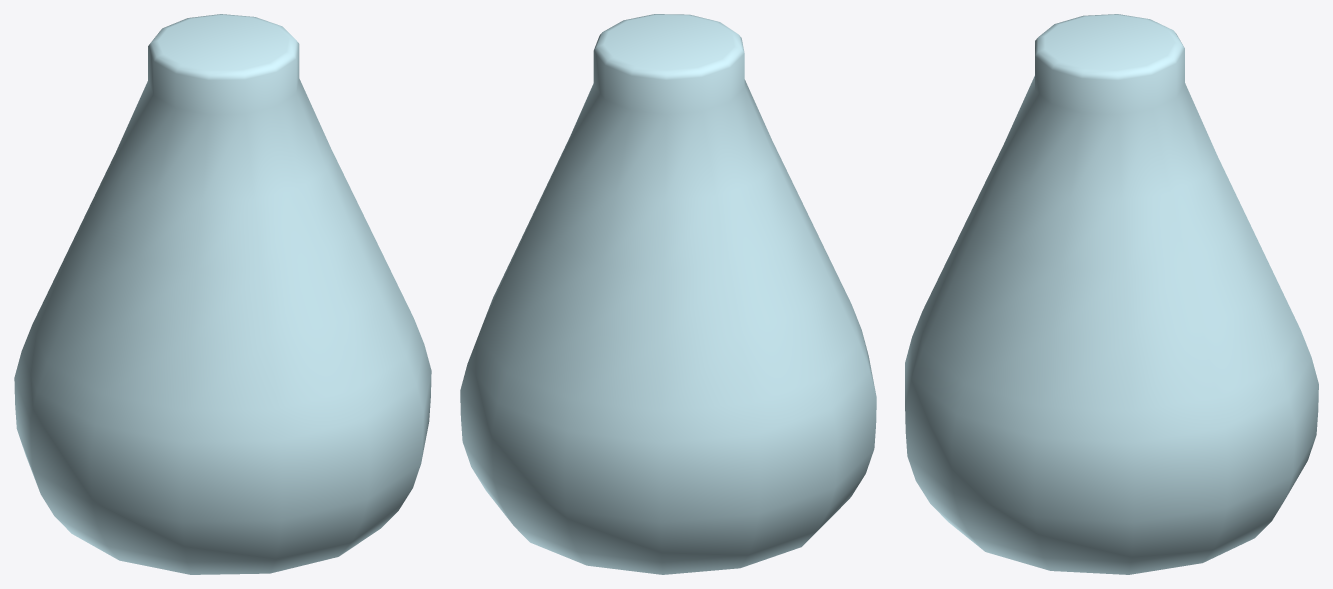
The model's file is WaterShot_Full.fbx.
The picture shows the model from 3 angles, left to right: view 1: azimuth 30°, elevation 25°; view 2: azimuth 150°, elevation 25°; view 3: azimuth 270°, elevation 25°; orthographic projection.
Parts seen in each view (by area): view 1: WaterShot_Full; view 2: WaterShot_Full; view 3: WaterShot_Full.
Part boxes in pixels (left/top/right/bottom): WaterShot_Full: left=14, top=14, right=431, bottom=574; WaterShot_Full: left=460, top=14, right=876, bottom=574; WaterShot_Full: left=905, top=14, right=1318, bottom=574.
Bounding box in the file's own units: 45.31 × 57.98 × 44.98.
